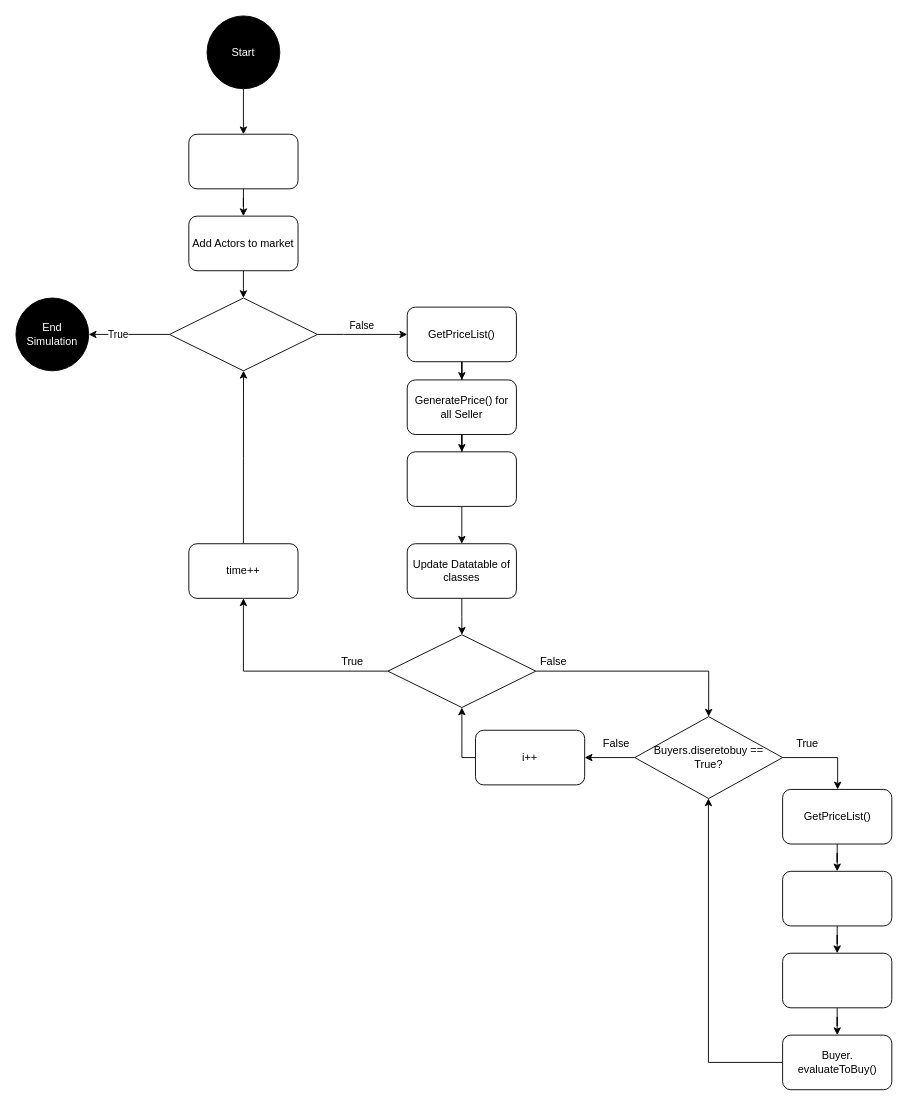
The diagram is 908 pixels wide and 1106 high, and some of its shapes have lost their labels. The centre of each missing label's shape, as x and y in pixels:
"buy()" belongs at point 837,980.
"Choose Seller" belongs at point 837,898.
"GenerateBid() for all Buyers" belongs at point 461,478.
"i == len(ListofBuyers) ?" belongs at point 461,671.
"Initiate market" belongs at point 243,161.
"time >= LengthofSimulation" belongs at point 243,334.
